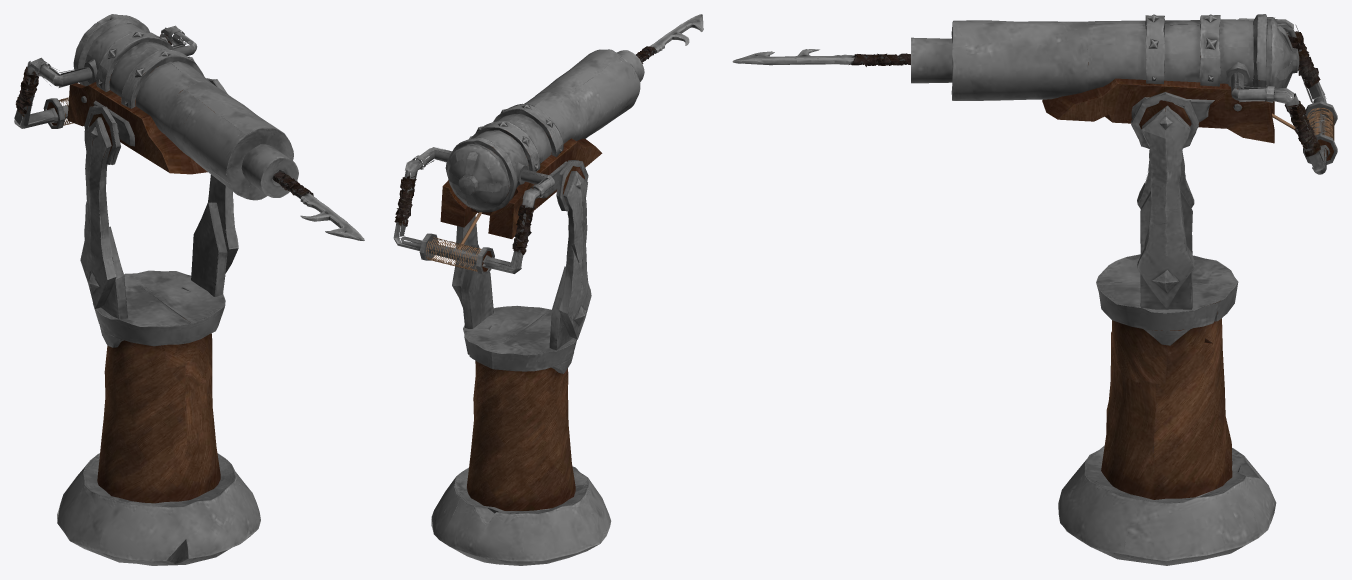
File: harpoon.glb
3 views of the same model, side by side, from view 1: azimuth 30°, elevation 25°; view 2: azimuth 150°, elevation 25°; view 3: azimuth 270°, elevation 25° (orthographic). The views are drawn at different scales.
Visible parts, largest first — view 1: harpoon_mount, harpoon_gun, harpoon_yoke, harpoon_bolt; view 2: harpoon_mount, harpoon_gun, harpoon_yoke, harpoon_bolt; view 3: harpoon_mount, harpoon_gun, harpoon_yoke, harpoon_bolt.
Part boxes in pixels (<box>): harpoon_mount: <box>57,270,260,565</box>; harpoon_gun: <box>14,14,298,200</box>; harpoon_yoke: <box>80,78,238,319</box>; harpoon_bolt: <box>272,171,364,240</box>; harpoon_mount: <box>431,305,611,565</box>; harpoon_gun: <box>393,49,644,274</box>; harpoon_yoke: <box>452,136,591,350</box>; harpoon_bolt: <box>636,14,703,63</box>; harpoon_mount: <box>1058,254,1276,565</box>; harpoon_gun: <box>911,14,1337,174</box>; harpoon_yoke: <box>1131,92,1199,309</box>; harpoon_bolt: <box>732,49,910,66</box>.
Bounding box in the file's own units: 0.1406 × 0.3629 × 0.3887.
Materials: 5 (5 with a texture image).
